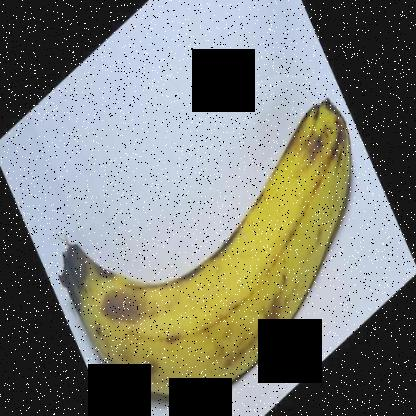ripe: (50, 82, 362, 415)
